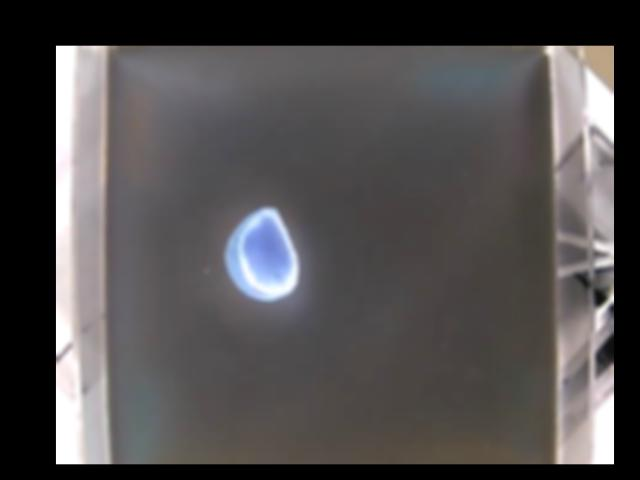Potato: (224, 206, 300, 303)
